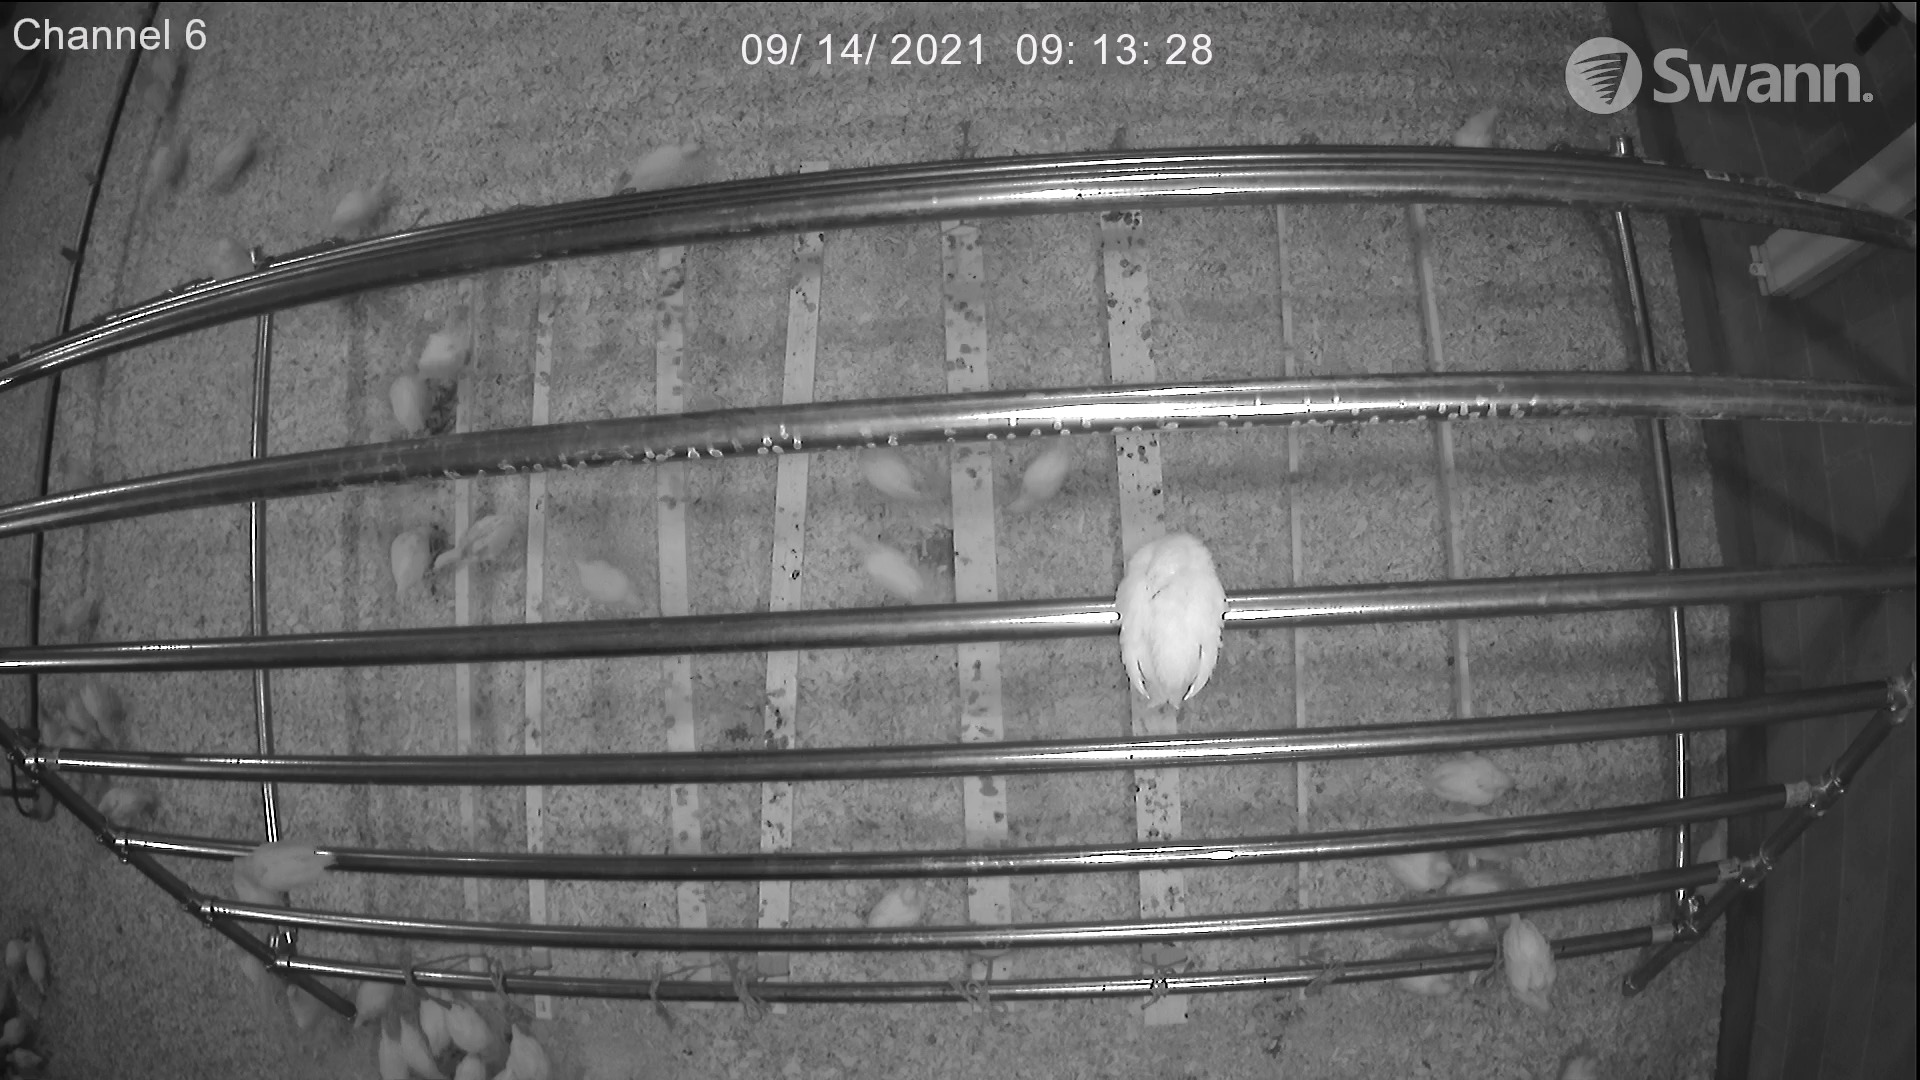Perching: (1098, 512, 1240, 723), (222, 825, 352, 902), (1481, 915, 1578, 1015), (400, 290, 487, 392), (1414, 746, 1526, 820)
